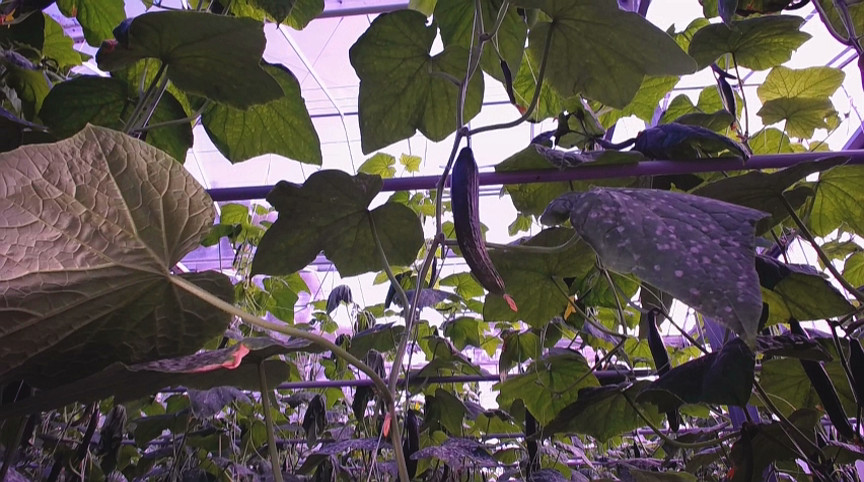cucumber: (784, 317, 856, 443), (448, 148, 506, 293), (642, 315, 682, 435), (400, 408, 421, 482)
